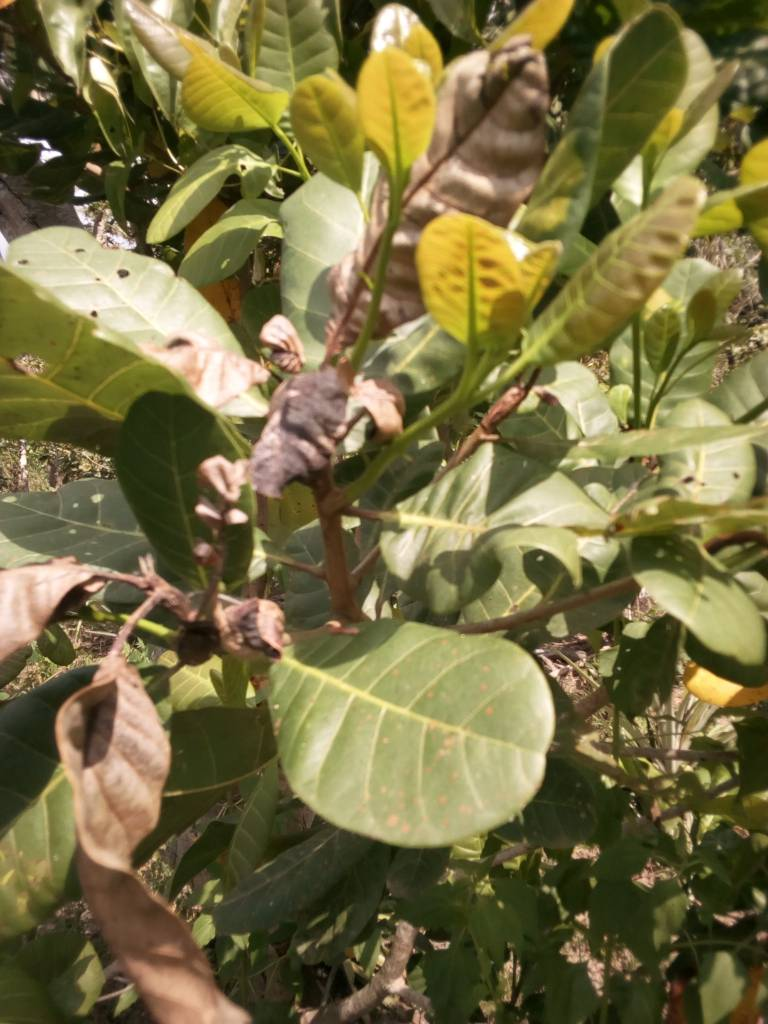Dessèchement des bourgeons: (101, 461, 272, 659)
